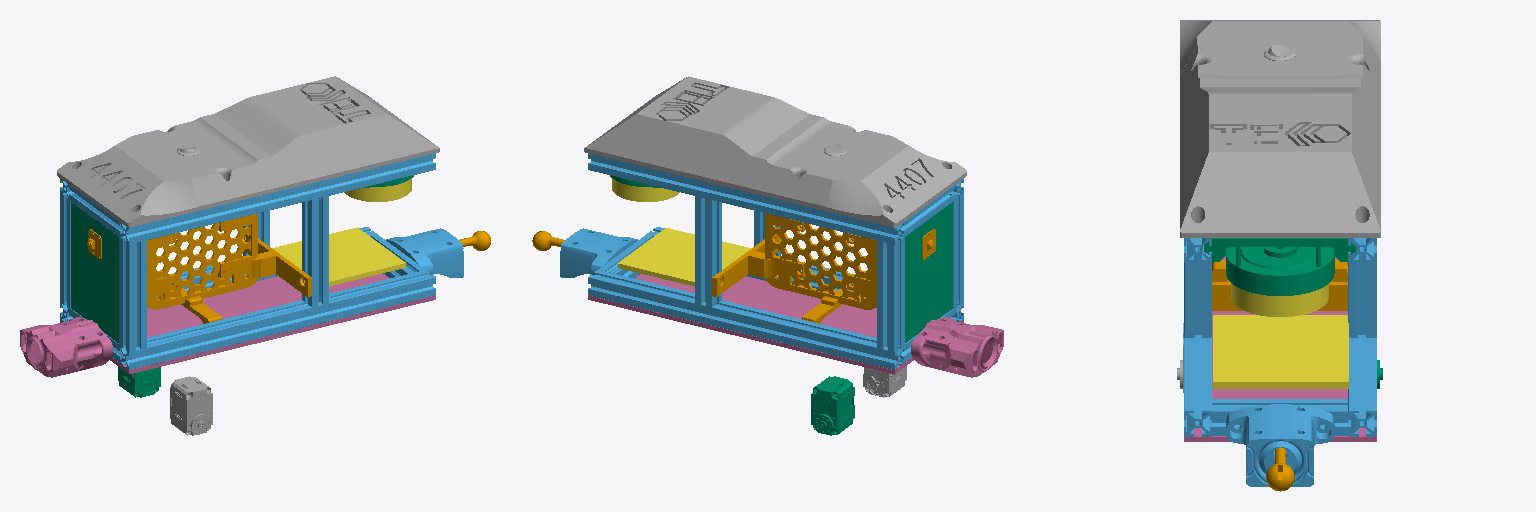
--- What the picture shows (computed from the rendered views, not written in the file) ---
The picture shows the robot from 3 angles, left to right: view 1: azimuth 30°, elevation 25°; view 2: azimuth 150°, elevation 25°; view 3: azimuth 270°, elevation 25°; orthographic projection.
Robot: teko_urdf — 20 links, 19 joints (5 continuous, 14 fixed); root link TEKO_Body; default pose: every joint at zero.
Links seen in each view (by area): view 1: TEKO_Roof, TEKO_Body, TEKO_BoardSupport, TEKO_GlassBase, TEKO_WallBack, TEKO_ConnectorRear, TEKO_GlassAruco, TEKO_ConnectorMale, TEKO_MotorRight, TEKO_MotorRight-1, TEKO_Lidar; view 2: TEKO_Roof, TEKO_Body, TEKO_BoardSupport, TEKO_GlassBase, TEKO_WallBack, TEKO_ConnectorRear, TEKO_GlassAruco, TEKO_ConnectorMale, TEKO_MotorRight-1, TEKO_MotorRight, TEKO_Lidar; view 3: TEKO_Roof, TEKO_Body, TEKO_GlassAruco, TEKO_LidarBase, TEKO_ConnectorMale, TEKO_GlassBase, TEKO_Lidar, TEKO_BoardSupport, TEKO_ConnectorPin.
Link boxes in pixels (<box>): TEKO_Roof: <box>57,76,439,227</box>; TEKO_Body: <box>60,153,435,369</box>; TEKO_BoardSupport: <box>147,213,311,323</box>; TEKO_GlassBase: <box>60,273,435,373</box>; TEKO_WallBack: <box>71,202,118,342</box>; TEKO_ConnectorRear: <box>20,317,112,377</box>; TEKO_GlassAruco: <box>272,227,405,285</box>; TEKO_ConnectorMale: <box>386,228,463,277</box>; TEKO_MotorRight: <box>170,376,212,435</box>; TEKO_MotorRight-1: <box>118,367,160,397</box>; TEKO_Lidar: <box>344,178,411,201</box>; TEKO_Roof: <box>584,76,966,227</box>; TEKO_Body: <box>588,153,963,369</box>; TEKO_BoardSupport: <box>712,213,876,323</box>; TEKO_GlassBase: <box>588,274,963,374</box>; TEKO_WallBack: <box>905,202,952,342</box>; TEKO_ConnectorRear: <box>911,317,1003,377</box>; TEKO_GlassAruco: <box>618,228,751,286</box>; TEKO_ConnectorMale: <box>560,228,637,277</box>; TEKO_MotorRight-1: <box>811,376,854,435</box>; TEKO_MotorRight: <box>863,366,906,397</box>; TEKO_Lidar: <box>612,178,679,201</box>; TEKO_Roof: <box>1180,20,1380,237</box>; TEKO_Body: <box>1184,238,1376,436</box>; TEKO_GlassAruco: <box>1213,315,1348,388</box>; TEKO_LidarBase: <box>1204,238,1355,295</box>; TEKO_ConnectorMale: <box>1226,404,1334,486</box>; TEKO_GlassBase: <box>1184,249,1376,441</box>; TEKO_Lidar: <box>1231,283,1328,316</box>; TEKO_BoardSupport: <box>1212,260,1347,310</box>; TEKO_ConnectorPin: <box>1266,447,1294,491</box>.
Size in the robot's own frame: 0.5129 by 0.144 by 0.2855 metres.
14 mesh visuals loaded from 20 distinct referenced files (14 binary STL); not drawn: 6 (reference not matched to a file when rendering).

URDF robot description (teko_urdf):
<?xml version='1.0' encoding='utf-8'?>
<robot name="teko_urdf">
    <link name="TEKO_Camera">
        <inertial>
            <origin xyz="-0.0006019928284607907 -0.026451130024606768 0.0013139717851241173" rpy="0.0 -0.0 0.0" />
            <mass value="0.0012386847723750993" />
            <inertia ixx="4.838735248432677e-08" iyy="4.626482335824228e-08" izz="8.802945438877071e-08" ixy="2.6707303999946516e-10" iyz="1.2190327128913994e-10" ixz="2.2564689916967786e-09" />
        </inertial>
        <visual name="TEKO_Camera_visual">
            <origin xyz="3.9968028886505634e-17 -0.0574999953931769 -0.17200000000000037" rpy="-1.5707963267948966 1.5707963267948966 0" />
            <geometry>
                <mesh filename="meshes/TEKO_Camera.stl" scale="0.001 0.001 0.001" />
            </geometry>
        </visual>
        <collision name="TEKO_Camera_collision">
            <origin xyz="3.9968028886505634e-17 -0.0574999953931769 -0.17200000000000037" rpy="-1.5707963267948966 1.5707963267948966 0" />
            <geometry>
                <mesh filename="meshes/TEKO_Camera.stl" scale="0.001 0.001 0.001" />
            </geometry>
        </collision>
    </link>
    <link name="TEKO_Body">
        <inertial>
            <origin xyz="-0.016915404965655145 -5.366708442303729e-06 -6.249616270203821e-07" rpy="0.0 0.0 0.0" />
            <mass value="2.95242908958936" />
            <inertia ixx="0.01999458462725553" iyy="0.04781452566537223" izz="0.045022886958473146" ixy="7.98821124831476e-07" iyz="7.462875439248402e-12" ixz="0.000912745748543324" />
        </inertial>
        <visual name="TEKO_Body_visual">
            <origin xyz="0.0 0.0 0.0" rpy="0.0 0.0 0.0" />
            <geometry>
                <mesh filename="meshes/TEKO_Body.stl" scale="0.001 0.001 0.001" />
            </geometry>
        </visual>
        <collision name="TEKO_Body_collision">
            <origin xyz="0.0 0.0 0.0" rpy="0.0 0.0 0.0" />
            <geometry>
                <mesh filename="meshes/TEKO_Body.stl" scale="0.001 0.001 0.001" />
            </geometry>
        </collision>
    </link>
    <link name="TEKO_MotorRight-1">
        <inertial>
            <origin xyz="6.075146885713423e-06 0.012145878223398122 0.020350041841987958" rpy="0.0 -0.0 0.0" />
            <mass value="0.3338580457563576" />
            <inertia ixx="8.973366212871627e-05" iyy="5.310595517076487e-05" izz="8.072317212791912e-05" ixy="2.4637803349575317e-08" iyz="-2.442400799483958e-06" ixz="3.0329953062907525e-08" />
        </inertial>
        <visual name="TEKO_MotorRight-1_visual">
            <origin xyz="0.09334722429827032 0.15314999999999784 0.07180000000000522" rpy="-1.5707963267948657 5.30152566939902e-15 1.7495034709016767e-30" />
            <geometry>
                <mesh filename="meshes/TEKO_MotorRight-1.stl" scale="0.001 0.001 0.001" />
            </geometry>
        </visual>
        <collision name="TEKO_MotorRight-1_collision">
            <origin xyz="0.09334722429827032 0.15314999999999784 0.07180000000000522" rpy="-1.5707963267948657 5.30152566939902e-15 1.7495034709016767e-30" />
            <geometry>
                <mesh filename="meshes/TEKO_MotorRight-1.stl" scale="0.001 0.001 0.001" />
            </geometry>
        </collision>
    </link>
    <link name="TEKO_Chassi">
        <inertial>
            <origin xyz="-0.05864869439899358 -0.06699999999998936 -0.04669874598502" rpy="0.0 -0.0 0.0" />
            <mass value="0.8515121958050561" />
            <inertia ixx="0.00457924936367241" iyy="0.005852943616159432" izz="0.008936946269037955" ixy="2.2103773686063012e-15" iyz="2.0887832479291046e-17" ixz="0.0003381937410805074" />
        </inertial>
        <visual name="TEKO_Chassi_visual">
            <origin xyz="-0.032706795701729637 -0.06720000000000016 0.05750000000000009" rpy="0.0 -0.0 5.30152566939902e-15" />
            <geometry>
                <mesh filename="meshes/TEKO_Chassi.stl" scale="0.001 0.001 0.001" />
            </geometry>
        </visual>
        <collision name="TEKO_Chassi_collision">
            <origin xyz="-0.032706795701729637 -0.06720000000000016 0.05750000000000009" rpy="0.0 -0.0 5.30152566939902e-15" />
            <geometry>
                <mesh filename="meshes/TEKO_Chassi.stl" scale="0.001 0.001 0.001" />
            </geometry>
        </collision>
    </link>
    <link name="TEKO_WheelBackLeft">
        <inertial>
            <origin xyz="-6.391664093872152e-06 3.516300231325431e-06 0.01666518311405369" rpy="0.0 -0.0 0.0" />
            <mass value="0.26591647257735795" />
            <inertia ixx="9.323502247751692e-05" iyy="9.320985642880149e-05" izz="0.00010878868702309322" ixy="-1.5932751675721418e-08" iyz="-2.2561326166667395e-09" ixz="3.030744544219033e-10" />
        </inertial>
        <visual name="TEKO_WheelBackLeft_visual">
            <origin xyz="0.09334722429827036 -0.1531500000000001 -0.08220000000000016" rpy="1.5707963267948966 -5.30152566939902e-15 0.0" />
            <geometry>
                <mesh filename="meshes/TEKO_WheelBackLeft.stl" scale="0.001 0.001 0.001" />
            </geometry>
        </visual>
        <collision name="TEKO_WheelBackLeft_collision">
            <origin xyz="0.09334722429827036 -0.1531500000000001 -0.08220000000000016" rpy="1.5707963267948966 -5.30152566939902e-15 0.0" />
            <geometry>
                <mesh filename="meshes/TEKO_WheelBackLeft.stl" scale="0.001 0.001 0.001" />
            </geometry>
        </collision>
    </link>
    <link name="TEKO_WheelFrontLeft">
        <inertial>
            <origin xyz="-6.391665036549199e-06 3.5163002309879232e-06 0.016665183114054613" rpy="0.0 -0.0 0.0" />
            <mass value="0.26591647257735956" />
            <inertia ixx="9.323502247751518e-05" iyy="9.320985642570587e-05" izz="0.00010878868701999153" ixy="-1.593278872204229e-08" iyz="-2.2561326123299308e-09" ixz="3.0305054082510607e-10" />
        </inertial>
        <visual name="TEKO_WheelFrontLeft_visual">
            <origin xyz="-0.08055277570172965 -0.1531500000000001 -0.08220000000000016" rpy="1.5707963267948966 -5.30152566939902e-15 0.0" />
            <geometry>
                <mesh filename="meshes/TEKO_WheelFrontLeft.stl" scale="0.001 0.001 0.001" />
            </geometry>
        </visual>
        <collision name="TEKO_WheelFrontLeft_collision">
            <origin xyz="-0.08055277570172965 -0.1531500000000001 -0.08220000000000016" rpy="1.5707963267948966 -5.30152566939902e-15 0.0" />
            <geometry>
                <mesh filename="meshes/TEKO_WheelFrontLeft.stl" scale="0.001 0.001 0.001" />
            </geometry>
        </collision>
    </link>
    <link name="TEKO_ConnectorRear">
        <inertial>
            <origin xyz="-2.671080714359701e-05 -0.014444350573903338 0.03165240374063423" rpy="0.0 9.683598452104271e-48 0.0" />
            <mass value="0.610171436349428" />
            <inertia ixx="0.0003131463573876822" iyy="0.0004380018496381241" izz="0.00028384080125114057" ixy="1.355720866895629e-07" iyz="-9.906871849972923e-06" ixz="-1.5751535527045858e-07" />
        </inertial>
        <visual name="TEKO_ConnectorRear_visual">
            <origin xyz="-5.399826870294263e-18 0.057999999999999996 -0.17250000000000001" rpy="-1.5707963267948968 1.5707963267948966 0" />
            <geometry>
                <mesh filename="meshes/TEKO_ConnectorRear.stl" scale="0.001 0.001 0.001" />
            </geometry>
        </visual>
        <collision name="TEKO_ConnectorRear_collision">
            <origin xyz="-5.399826870294263e-18 0.057999999999999996 -0.17250000000000001" rpy="-1.5707963267948968 1.5707963267948966 0" />
            <geometry>
                <mesh filename="meshes/TEKO_ConnectorRear.stl" scale="0.001 0.001 0.001" />
            </geometry>
        </collision>
    </link>
    <link name="TEKO_Roof">
        <inertial>
            <origin xyz="-0.0670649614394194 -0.18724256503072337 0.02035091024417257" rpy="0.0 -0.0 0.0" />
            <mass value="3.3827878946759804" />
            <inertia ixx="0.03186106030635142" iyy="0.00786987808033706" izz="0.03860295468346278" ixy="1.3108241382740284e-05" iyz="-0.0015932655402093377" ixz="3.1162768180490827e-06" />
        </inertial>
        <visual name="TEKO_Roof_visual">
            <origin xyz="-0.06719980964878108 -0.17249999999999996 -0.07730000000000002" rpy="0.0 -0.0 1.5707963267948966" />
            <geometry>
                <mesh filename="meshes/TEKO_Roof.stl" scale="0.001 0.001 0.001" />
            </geometry>
        </visual>
        <collision name="TEKO_Roof_collision">
            <origin xyz="-0.06719980964878108 -0.17249999999999996 -0.07730000000000002" rpy="0.0 -0.0 1.5707963267948966" />
            <geometry>
                <mesh filename="meshes/TEKO_Roof.stl" scale="0.001 0.001 0.001" />
            </geometry>
        </collision>
    </link>
    <link name="TEKO_ConnectorPin">
        <inertial>
            <origin xyz="-0.0015095334932310413 -3.2837828533707757e-06 -0.013480961266549515" rpy="0.0 -0.0 0.0" />
            <mass value="0.06016190580093297" />
            <inertia ixx="3.43588332944191e-05" iyy="3.4424329270064686e-05" izz="1.8486177547888242e-06" ixy="1.6286864475808849e-10" iyz="4.252978698035833e-09" ixz="-1.7259695517364776e-06" />
        </inertial>
        <visual name="TEKO_ConnectorPin_visual">
            <origin xyz="0.03443909077752745 6.478897893345926e-05 0.2304999992400408" rpy="-2.308934732031403e-15 1.5707963267948966 0" />
            <geometry>
                <mesh filename="meshes/TEKO_ConnectorPin.stl" scale="0.001 0.001 0.001" />
            </geometry>
        </visual>
        <collision name="TEKO_ConnectorPin_collision">
            <origin xyz="0.03443909077752745 6.478897893345926e-05 0.2304999992400408" rpy="-2.308934732031403e-15 1.5707963267948966 0" />
            <geometry>
                <mesh filename="meshes/TEKO_ConnectorPin.stl" scale="0.001 0.001 0.001" />
            </geometry>
        </collision>
    </link>
    <link name="TEKO_ConnectorMale">
        <inertial>
            <origin xyz="-1.8569555341972547e-05 0.010086410545713012 0.028649329267727595" rpy="0.0 -0.0 0.0" />
            <mass value="0.5231990984505147" />
            <inertia ixx="0.0002010561553275822" iyy="0.0002953689188779085" izz="0.00017902307127131865" ixy="4.3199447800276175e-08" iyz="-2.1818898087853922e-05" ixz="-1.459040578197031e-09" />
        </inertial>
        <visual name="TEKO_ConnectorMale_visual">
            <origin xyz="-7.62455450399286e-05 -0.057889871746927515 -0.17250000000000026" rpy="1.5707963267948943 -1.5707963267948966 0" />
            <geometry>
                <mesh filename="meshes/TEKO_ConnectorMale.stl" scale="0.001 0.001 0.001" />
            </geometry>
        </visual>
        <collision name="TEKO_ConnectorMale_collision">
            <origin xyz="-7.62455450399286e-05 -0.057889871746927515 -0.17250000000000026" rpy="1.5707963267948943 -1.5707963267948966 0" />
            <geometry>
                <mesh filename="meshes/TEKO_ConnectorMale.stl" scale="0.001 0.001 0.001" />
            </geometry>
        </collision>
    </link>
    <link name="TEKO_WallBack">
        <inertial>
            <origin xyz="-0.0006000000000000583 -5.407566755488702e-17 0.057497642303410555" rpy="0.0 -0.0 0.0" />
            <mass value="0.4287599869279915" />
            <inertia ixx="0.000794910589929738" iyy="0.00047338373573235434" izz="0.00032331335414291507" ixy="-4.908959711112625e-19" iyz="-4.192039119802366e-19" ixz="9.482269146715875e-19" />
        </inertial>
        <visual name="TEKO_WallBack_visual">
            <origin xyz="0.16940000000000002 -1.3512443515129036e-06 0.05749647508845193" rpy="0.0 -0.0 0.0" />
            <geometry>
                <mesh filename="meshes/TEKO_WallBack.stl" scale="0.001 0.001 0.001" />
            </geometry>
        </visual>
        <collision name="TEKO_WallBack_collision">
            <origin xyz="0.16940000000000002 -1.3512443515129036e-06 0.05749647508845193" rpy="0.0 -0.0 0.0" />
            <geometry>
                <mesh filename="meshes/TEKO_WallBack.stl" scale="0.001 0.001 0.001" />
            </geometry>
        </collision>
    </link>
    <link name="TEKO_GlassAruco">
        <inertial>
            <origin xyz="-0.055749999850988385 -0.04769999999999461 0.002499966325032412" rpy="0.0 -0.0 0.0" />
            <mass value="0.4157500974060791" />
            <inertia ixx="0.0003135448420959026" iyy="0.00043159188537814" izz="0.0007434044814638818" ixy="3.3881317890172014e-21" iyz="2.286988957586611e-20" ixz="2.168404344971009e-19" />
        </inertial>
        <visual name="TEKO_GlassAruco_visual">
            <origin xyz="-0.15049999985098847 -0.04773462034064349 0.05050001000000001" rpy="0.0 -0.0 0.0" />
            <geometry>
                <mesh filename="meshes/TEKO_GlassAruco.stl" scale="0.001 0.001 0.001" />
            </geometry>
        </visual>
        <collision name="TEKO_GlassAruco_collision">
            <origin xyz="-0.15049999985098847 -0.04773462034064349 0.05050001000000001" rpy="0.0 -0.0 0.0" />
            <geometry>
                <mesh filename="meshes/TEKO_GlassAruco.stl" scale="0.001 0.001 0.001" />
            </geometry>
        </collision>
    </link>
    <link name="TEKO_WheelBackRight">
        <inertial>
            <origin xyz="-6.864833042481422e-06 -3.243595376982711e-06 0.01666526410668853" rpy="0.0 -0.0 0.0" />
            <mass value="0.26593113960593123" />
            <inertia ixx="9.324121331082645e-05" iyy="9.321577936850702e-05" izz="0.00010879791094810937" ixy="1.5887236906684393e-08" iyz="1.9369397188592763e-09" ixz="7.542198948717882e-10" />
        </inertial>
        <visual name="TEKO_WheelBackRight_visual">
            <origin xyz="0.09334722429827036 0.15315000000000006 -0.08219999999999952" rpy="-1.5707963267948966 5.30152566939902e-15 0.0" />
            <geometry>
                <mesh filename="meshes/TEKO_WheelBackRight.stl" scale="0.001 0.001 0.001" />
            </geometry>
        </visual>
        <collision name="TEKO_WheelBackRight_collision">
            <origin xyz="0.09334722429827036 0.15315000000000006 -0.08219999999999952" rpy="-1.5707963267948966 5.30152566939902e-15 0.0" />
            <geometry>
                <mesh filename="meshes/TEKO_WheelBackRight.stl" scale="0.001 0.001 0.001" />
            </geometry>
        </collision>
    </link>
    <link name="TEKO_WheelFrontRight">
        <inertial>
            <origin xyz="-6.86483398490978e-06 -3.2435953768228386e-06 0.016665264106687856" rpy="0.0 -0.0 0.0" />
            <mass value="0.265931139605929" />
            <inertia ixx="9.324121331082125e-05" iyy="9.321577936540273e-05" izz="0.00010879791094500074" ixy="1.5887273951704223e-08" iyz="1.9369397153898293e-09" ixz="7.541959817086719e-10" />
        </inertial>
        <visual name="TEKO_WheelFrontRight_visual">
            <origin xyz="-0.08055277570172961 0.15315000000000006 -0.08219999999999952" rpy="-1.5707963267948966 5.30152566939902e-15 0.0" />
            <geometry>
                <mesh filename="meshes/TEKO_WheelFrontRight.stl" scale="0.001 0.001 0.001" />
            </geometry>
        </visual>
        <collision name="TEKO_WheelFrontRight_collision">
            <origin xyz="-0.08055277570172961 0.15315000000000006 -0.08219999999999952" rpy="-1.5707963267948966 5.30152566939902e-15 0.0" />
            <geometry>
                <mesh filename="meshes/TEKO_WheelFrontRight.stl" scale="0.001 0.001 0.001" />
            </geometry>
        </collision>
    </link>
    <link name="TEKO_GlassBase">
        <inertial>
            <origin xyz="-0.06700000000000002 0.17250000000000001 0.002250000000000032" rpy="0.0 -0.0 0.0" />
            <mass value="1.645261875" />
            <inertia ixx="0.01632171760207031" iyy="0.00250151785207031" izz="0.0188176826953125" ixy="0.0" iyz="-1.5171508493949657e-18" ixz="-2.0704646885860851e-19" />
        </inertial>
        <visual name="TEKO_GlassBase_visual">
            <origin xyz="-0.067 0.17250000000000001 -0.07730000000000001" rpy="3.141592653589793 -0.0 1.5707963267948966" />
            <geometry>
                <mesh filename="meshes/TEKO_GlassBase.stl" scale="0.001 0.001 0.001" />
            </geometry>
        </visual>
        <collision name="TEKO_GlassBase_collision">
            <origin xyz="-0.067 0.17250000000000001 -0.07730000000000001" rpy="3.141592653589793 -0.0 1.5707963267948966" />
            <geometry>
                <mesh filename="meshes/TEKO_GlassBase.stl" scale="0.001 0.001 0.001" />
            </geometry>
        </collision>
    </link>
    <link name="TEKO_MotorRight">
        <inertial>
            <origin xyz="6.076134971273461e-06 -0.012145879017749639 0.020350041771137733" rpy="0.0 -0.0 0.0" />
            <mass value="0.3338580304078961" />
            <inertia ixx="8.973365588505096e-05" iyy="5.310595248353856e-05" izz="8.072316618447199e-05" ixy="-2.4641531955540964e-08" iyz="2.4424011774255596e-06" ixz="3.0329549385972836e-08" />
        </inertial>
        <visual name="TEKO_MotorRight_visual">
            <origin xyz="0.09334722429827037 -0.15314999999999784 0.07170000000000455" rpy="1.5707963267948657 -5.30152566939902e-15 1.749503470901676e-30" />
            <geometry>
                <mesh filename="meshes/TEKO_MotorRight.stl" scale="0.001 0.001 0.001" />
            </geometry>
        </visual>
        <collision name="TEKO_MotorRight_collision">
            <origin xyz="0.09334722429827037 -0.15314999999999784 0.07170000000000455" rpy="1.5707963267948657 -5.30152566939902e-15 1.749503470901676e-30" />
            <geometry>
                <mesh filename="meshes/TEKO_MotorRight.stl" scale="0.001 0.001 0.001" />
            </geometry>
        </collision>
    </link>
    <link name="TEKO_BoardSupport">
        <inertial>
            <origin xyz="-0.06674024009766753 -0.03161842566882406 0.06766276732786156" rpy="0.0 9.973250828902048e-43 0.0" />
            <mass value="0.5529059120022721" />
            <inertia ixx="0.001757048308320167" iyy="0.0015057952033683208" izz="0.0008177542824251937" ixy="3.112369912145078e-06" iyz="6.299714206125295e-05" ixz="-1.7070123732179723e-06" />
        </inertial>
        <visual name="TEKO_BoardSupport_visual">
            <origin xyz="-0.0672 -0.05750000000000001 0.03270000000000033" rpy="1.5707963267948966 1.5707963267948966 0" />
            <geometry>
                <mesh filename="meshes/TEKO_BoardSupport.stl" scale="0.001 0.001 0.001" />
            </geometry>
        </visual>
        <collision name="TEKO_BoardSupport_collision">
            <origin xyz="-0.0672 -0.05750000000000001 0.03270000000000033" rpy="1.5707963267948966 1.5707963267948966 0" />
            <geometry>
                <mesh filename="meshes/TEKO_BoardSupport.stl" scale="0.001 0.001 0.001" />
            </geometry>
        </collision>
    </link>
    <link name="TEKO_ArucoSuppor">
        <inertial>
            <origin xyz="-0.10908583622641083 -0.06696231798810534 0.04843812945531937" rpy="0.0 -0.0 0.0" />
            <mass value="2.3849467441322254" />
            <inertia ixx="0.005902770308334927" iyy="0.006875440791084524" izz="0.0064890490351207746" ixy="1.7229241515976818e-06" iyz="-1.1841492390707912e-06" ixz="0.001799430879032202" />
        </inertial>
        <visual name="TEKO_ArucoSuppor_visual">
            <origin xyz="-0.17250000000000001 -0.067 0.0575" rpy="0.0 -0.0 0.0" />
            <geometry>
                <mesh filename="meshes/TEKO_ArucoSuppor.stl" scale="0.001 0.001 0.001" />
            </geometry>
        </visual>
        <collision name="TEKO_ArucoSuppor_collision">
            <origin xyz="-0.17250000000000001 -0.067 0.0575" rpy="0.0 -0.0 0.0" />
            <geometry>
                <mesh filename="meshes/TEKO_ArucoSuppor.stl" scale="0.001 0.001 0.001" />
            </geometry>
        </collision>
    </link>
    <link name="TEKO_LidarBase">
        <inertial>
            <origin xyz="0.0021448525559021815 -0.04764835145088284 0.047600137581236955" rpy="0.0 -0.0 0.0" />
            <mass value="1.1102585236884506" />
            <inertia ixx="0.0018941551034162944" iyy="0.0010640636716937359" izz="0.0011125938431862867" ixy="6.285840197465219e-05" iyz="-3.458786969206716e-07" ixz="1.1007300877713386e-06" />
        </inertial>
        <visual name="TEKO_LidarBase_visual">
            <origin xyz="-0.057950002458691585 -0.17250000000000004 0.0477" rpy="1.5707963267948966 -0.0 1.5707963267948968" />
            <geometry>
                <mesh filename="meshes/TEKO_LidarBase.stl" scale="0.001 0.001 0.001" />
            </geometry>
        </visual>
        <collision name="TEKO_LidarBase_collision">
            <origin xyz="-0.057950002458691585 -0.17250000000000004 0.0477" rpy="1.5707963267948966 -0.0 1.5707963267948968" />
            <geometry>
                <mesh filename="meshes/TEKO_LidarBase.stl" scale="0.001 0.001 0.001" />
            </geometry>
        </collision>
    </link>
    <link name="TEKO_Lidar">
        <inertial>
            <origin xyz="1.2434497875801754e-16 -3.776197935464734e-16 0.012793512628552786" rpy="0.0 -0.0 0.0" />
            <mass value="0.7568849745795749" />
            <inertia ixx="0.0002679588604133741" iyy="0.0002679522742183339" izz="0.00045187002761743617" ixy="-4.194475877739061e-18" iyz="1.3594097803562937e-18" ixz="-2.168404344971009e-18" />
        </inertial>
        <visual name="TEKO_Lidar_visual">
            <origin xyz="-0.14500000000000005 -7.105427357601001e-17 0.043267542458691584" rpy="3.141592653589793 -0.0 0.0" />
            <geometry>
                <mesh filename="meshes/TEKO_Lidar.stl" scale="0.001 0.001 0.001" />
            </geometry>
        </visual>
        <collision name="TEKO_Lidar_collision">
            <origin xyz="-0.14500000000000005 -7.105427357601001e-17 0.043267542458691584" rpy="3.141592653589793 -0.0 0.0" />
            <geometry>
                <mesh filename="meshes/TEKO_Lidar.stl" scale="0.001 0.001 0.001" />
            </geometry>
        </collision>
    </link>
    <joint name="TEKO_LidarBase_JointLidar" type="continuous">
        <origin xyz="-0.01418246 -0.0275 0.0477" rpy="-1.5707963267948966 -0.0 1.5707963267948966" />
        <parent link="TEKO_LidarBase" />
        <child link="TEKO_Lidar" />
        <axis xyz="0.0 -0.0 1.0" />
    </joint>
    <joint name="TEKO_Chassi_JointWheelFrontRight" type="continuous">
        <origin xyz="0.04784598000000001 -0.149 -0.09565" rpy="1.5707963267948966 -0.0 0.0" />
        <parent link="TEKO_Chassi" />
        <child link="TEKO_WheelFrontRight" />
        <axis xyz="0.0 0.0 1.0" />
    </joint>
    <joint name="TEKO_Chassi_JointWheelBackRight" type="continuous">
        <origin xyz="-0.12605402 -0.149 -0.09565" rpy="1.5707963267948966 -0.0 0.0" />
        <parent link="TEKO_Chassi" />
        <child link="TEKO_WheelBackRight" />
        <axis xyz="0.0 0.0 1.0" />
    </joint>
    <joint name="TEKO_Chassi_JointWheelBackLeft" type="continuous">
        <origin xyz="-0.12605402 0.015 -0.09565" rpy="-1.5707963267948966 -0.0 0.0" />
        <parent link="TEKO_Chassi" />
        <child link="TEKO_WheelBackLeft" />
        <axis xyz="0.0 0.0 1.0" />
    </joint>
    <joint name="TEKO_Chassi_JointWheelFrontLeft" type="continuous">
        <origin xyz="0.04784598000000001 0.015 -0.09565" rpy="-1.5707963267948966 -0.0 0.0" />
        <parent link="TEKO_Chassi" />
        <child link="TEKO_WheelFrontLeft" />
        <axis xyz="0.0 0.0 1.0" />
    </joint>
    <joint name="TEKO_ConnectorMale_JointPin" type="fixed">
        <origin xyz="-8.617000000000059e-05 0.006360130000000002 0.05649999999999999" rpy="3.141592653589793 -0.0 -1.5707963267948966" />
        <parent link="TEKO_ConnectorMale" />
        <child link="TEKO_ConnectorPin" />
    </joint>
    <joint name="TEKO_ArucoSuppor_ArucoGlass" type="fixed">
        <origin xyz="-0.021999999999999992 -0.019000000000000003 0.00699999" rpy="0.0 -0.0 0.0" />
        <parent link="TEKO_ArucoSuppor" />
        <child link="TEKO_GlassAruco" />
    </joint>
    <joint name="TEKO_Chassi_MotorLeft" type="fixed">
        <origin xyz="-0.12605402 0.005 -0.09565" rpy="1.5707963267948963 -0.0 0.0" />
        <parent link="TEKO_Chassi" />
        <child link="TEKO_MotorRight-1" />
    </joint>
    <joint name="TEKO_Chassi_MotorRight" type="fixed">
        <origin xyz="-0.12605402 -0.13899999999999998 -0.09565" rpy="-1.5707963267948963 -0.0 0.0" />
        <parent link="TEKO_Chassi" />
        <child link="TEKO_MotorRight" />
    </joint>
    <joint name="TEKO_Body_GlassUnder" type="fixed">
        <origin xyz="-0.17250000000000001 0.067 -0.07730000000000001" rpy="3.141592653589793 -0.0 1.5707963267948966" />
        <parent link="TEKO_Body" />
        <child link="TEKO_GlassBase" />
    </joint>
    <joint name="TEKO_Body_BoardSupport" type="fixed">
        <origin xyz="0.0327 0.0668 -0.0575" rpy="-1.5707963267948966 -1.3559975873284387e-14 1.570796326794902" />
        <parent link="TEKO_Body" />
        <child link="TEKO_BoardSupport" />
    </joint>
    <joint name="TEKO_Body_ArucoSupport" type="fixed">
        <origin xyz="0.17250000000000001 0.067 -0.0575" rpy="0.0 -0.0 0.0" />
        <parent link="TEKO_Body" />
        <child link="TEKO_ArucoSuppor" />
    </joint>
    <joint name="TEKO_Body_LidarSupport" type="fixed">
        <origin xyz="0.17250000000000001 -0.0477 0.057999999999999996" rpy="-1.5707963267948966 -1.5707963267948966 0" />
        <parent link="TEKO_Body" />
        <child link="TEKO_LidarBase" />
    </joint>
    <joint name="TEKO_Body_Roof" type="fixed">
        <origin xyz="0.17250000000000001 -0.067 0.07730000000000001" rpy="0.0 -0.0 -1.5707963267948966" />
        <parent link="TEKO_Body" />
        <child link="TEKO_Roof" />
    </joint>
    <joint name="TEKO_WallBack_Camera" type="fixed">
        <origin xyz="-0.0030999999999999873 0.0 0.11499528" rpy="1.5707963267948966 -0.0 -1.570796326794897" />
        <parent link="TEKO_WallBack" />
        <child link="TEKO_Camera" />
    </joint>
    <joint name="TEKO_Body_BackWall" type="fixed">
        <origin xyz="-0.168625 0.0 -0.0575" rpy="0.0 -0.0 0.0" />
        <parent link="TEKO_Body" />
        <child link="TEKO_WallBack" />
    </joint>
    <joint name="TEKO_Body_ConnectorRear" type="fixed">
        <origin xyz="-0.17250000000000001 0.0 -0.057999999999999996" rpy="1.5707963267948966 9.310046328093557e-17 -1.5707963267948977" />
        <parent link="TEKO_Body" />
        <child link="TEKO_ConnectorRear" />
    </joint>
    <joint name="TEKO_Body_ConnectorFront" type="fixed">
        <origin xyz="0.17250000000000001 0.0 -0.057999999999999996" rpy="-1.5707963267948966 -9.310046328093557e-17 -1.5707963267948966" />
        <parent link="TEKO_Body" />
        <child link="TEKO_ConnectorMale" />
    </joint>
    <joint name="TEKO_Body_FullBody" type="fixed">
        <origin xyz="0.0327 0.0668 -0.0575" rpy="0.0 -0.0 0.0" />
        <parent link="TEKO_Body" />
        <child link="TEKO_Chassi" />
    </joint>
</robot>
